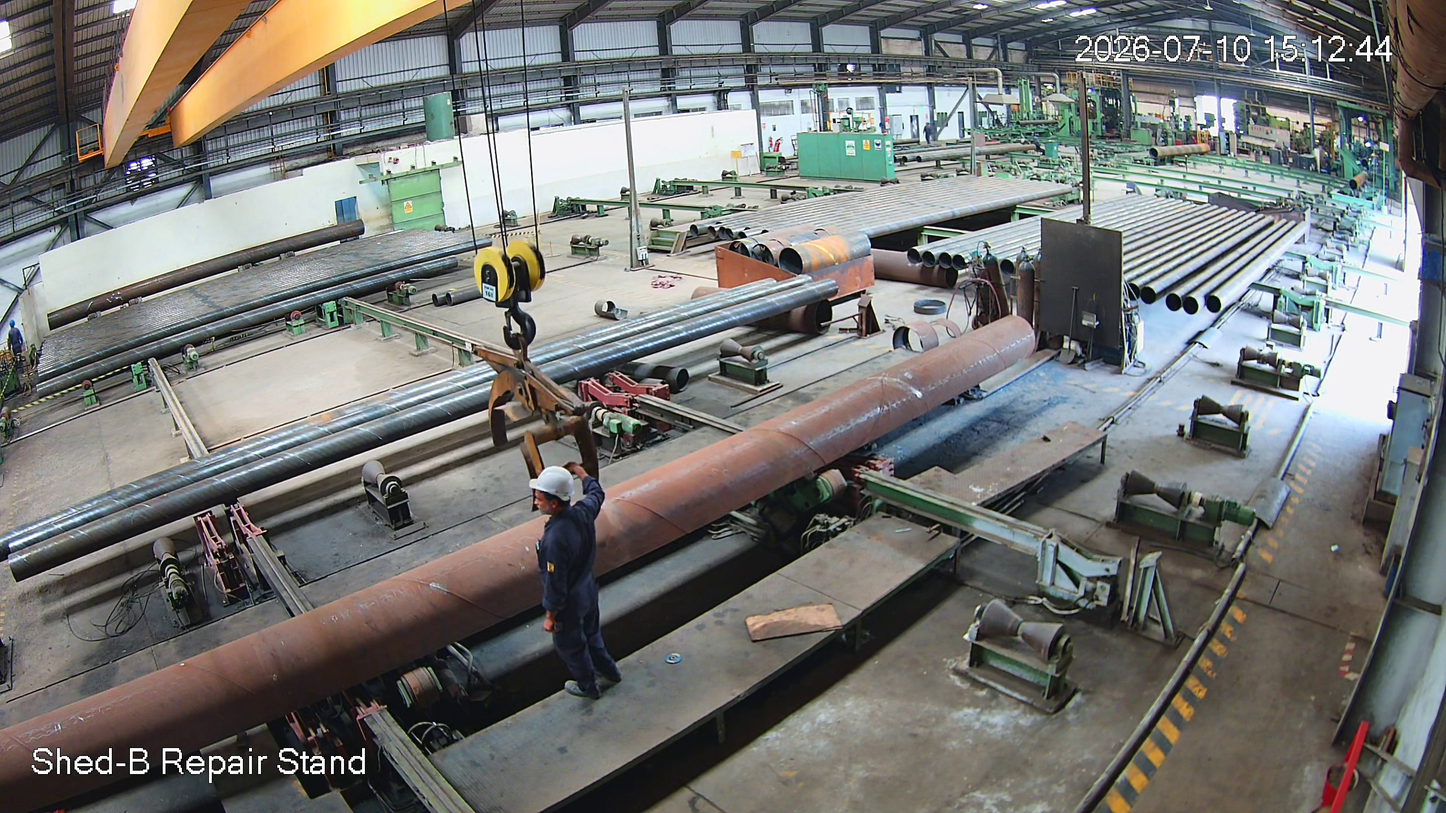Helmet: (520, 465, 582, 521)
Person: (510, 470, 629, 706)
